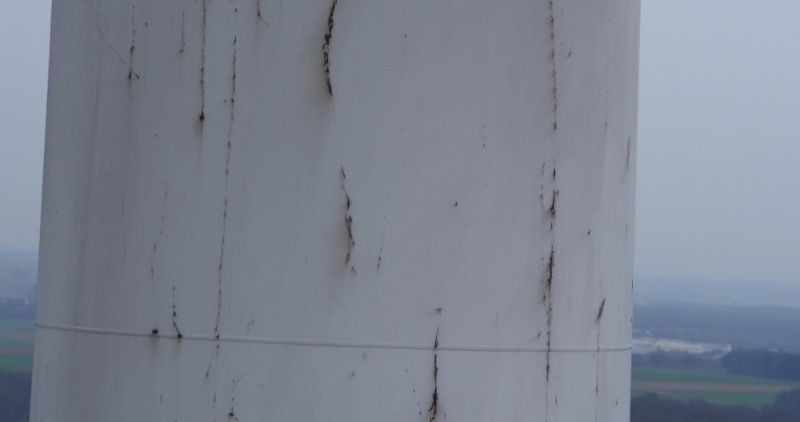weldseam: (30, 316, 634, 357)
